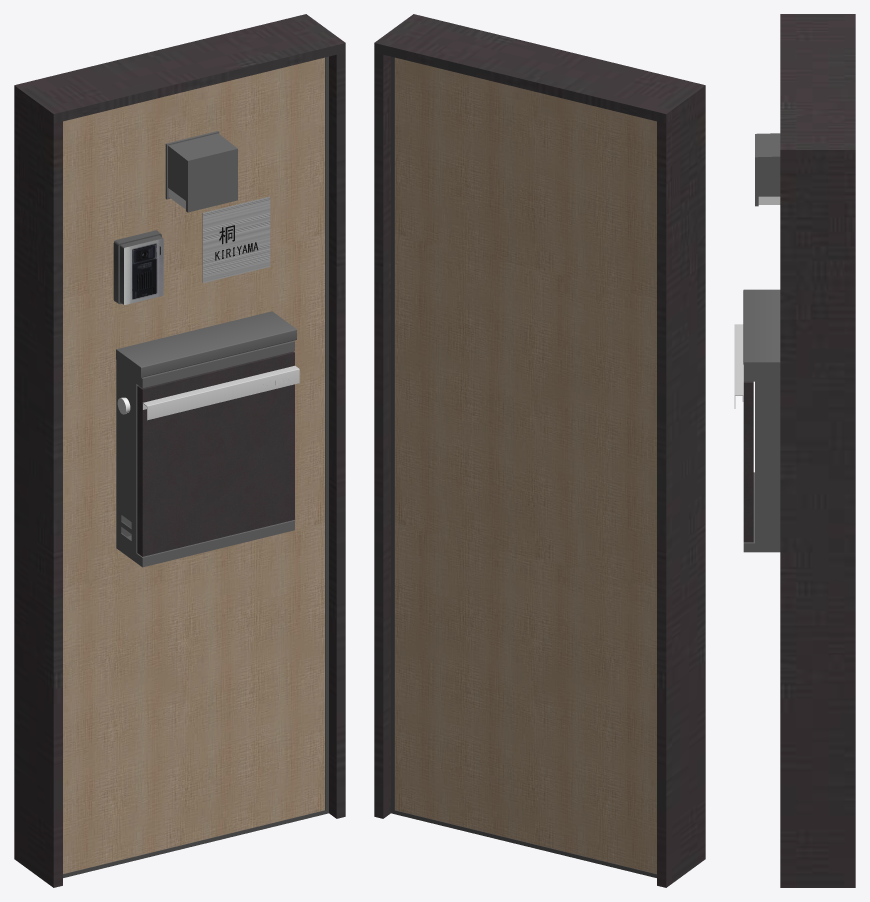
The model's file is 640-1620_kyoumatiyakareiro.fbx.
3 views of the same model, side by side, from view 1: azimuth 30°, elevation 25°; view 2: azimuth 150°, elevation 25°; view 3: azimuth 270°, elevation 25° (orthographic). The views are drawn at different scales.
Parts seen in each view (by area): view 1: 640-1620_kyoumatiyakareiro; view 2: 640-1620_kyoumatiyakareiro; view 3: 640-1620_kyoumatiyakareiro.
Boxes of the visible parts, left/top/right/bottom form: 640-1620_kyoumatiyakareiro: left=14, top=14, right=345, bottom=887; 640-1620_kyoumatiyakareiro: left=374, top=14, right=705, bottom=887; 640-1620_kyoumatiyakareiro: left=734, top=14, right=855, bottom=887.
Bounding box in the file's own units: 64 × 162 × 24.11.
16 materials, 6 textured.
